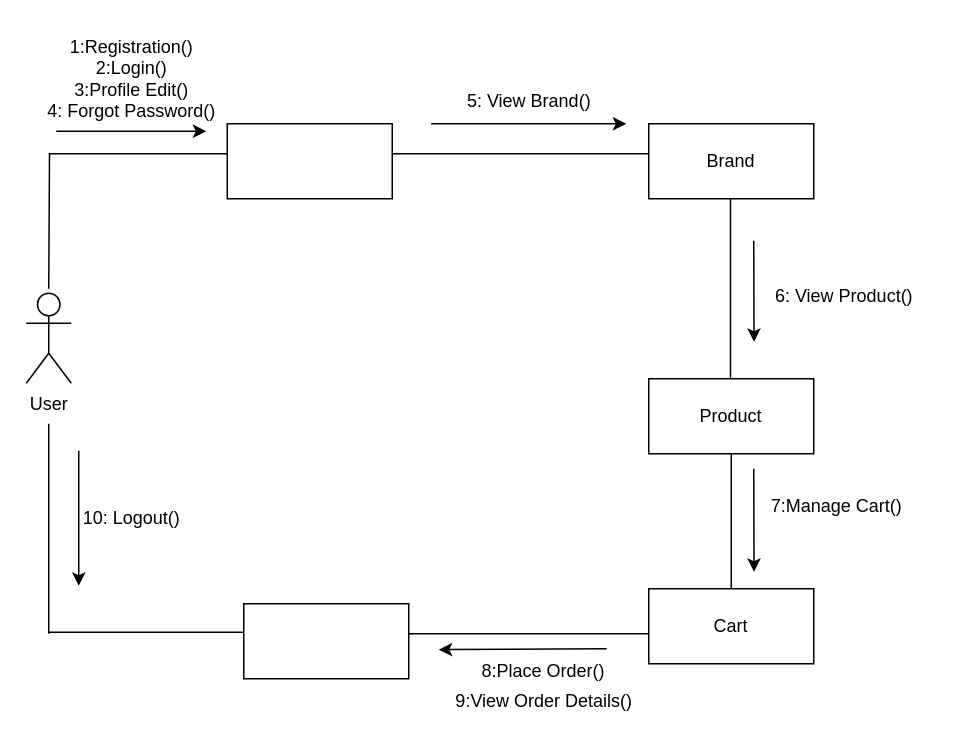
This 960x749 diagram has some shape labels left out. Each missing label, with the centre of its shape:
"Order" goes at pixel 325 640.
"Website" goes at pixel 309 160.
